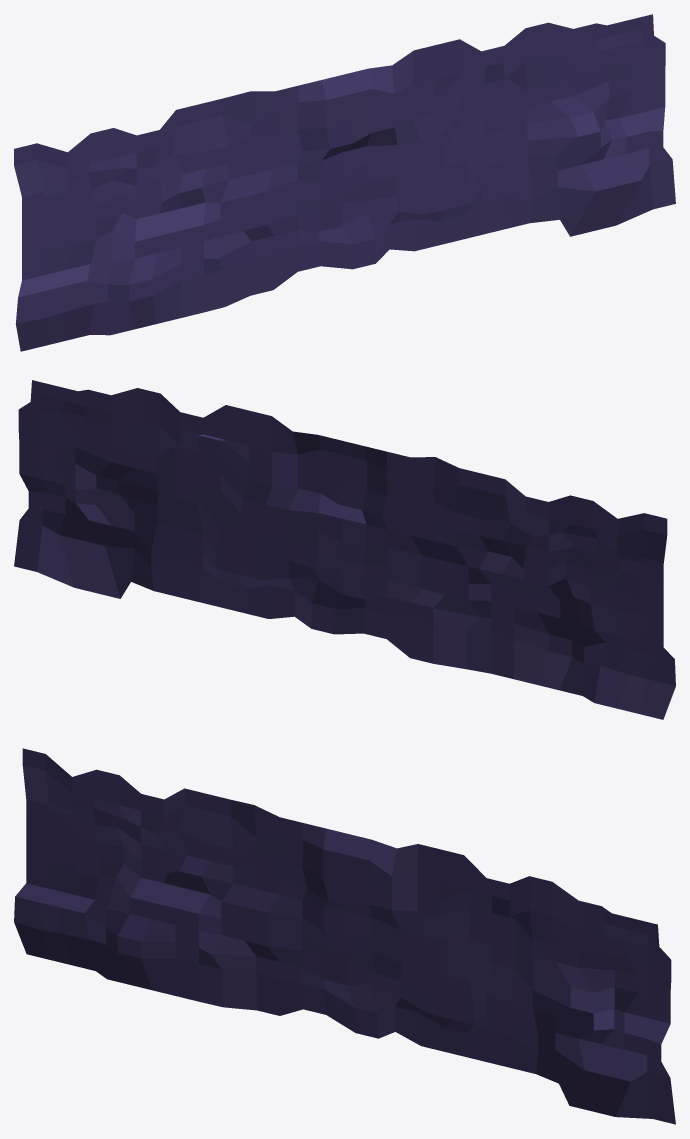
The model's file is CaveBackground.fbx.
The picture shows the model from 3 angles, top to bottom: view 1: azimuth 30°, elevation 25°; view 2: azimuth 150°, elevation 25°; view 3: azimuth 330°, elevation 25°; orthographic projection.
Parts seen in each view (by area): view 1: Plane; view 2: Plane; view 3: Plane.
Boxes of the visible parts, x1,y1,x2,y2 form: Plane: [14, 14, 675, 351]; Plane: [14, 380, 675, 719]; Plane: [14, 748, 675, 1124].
Size of the model in its own units: 5073 by 1629 by 139.
